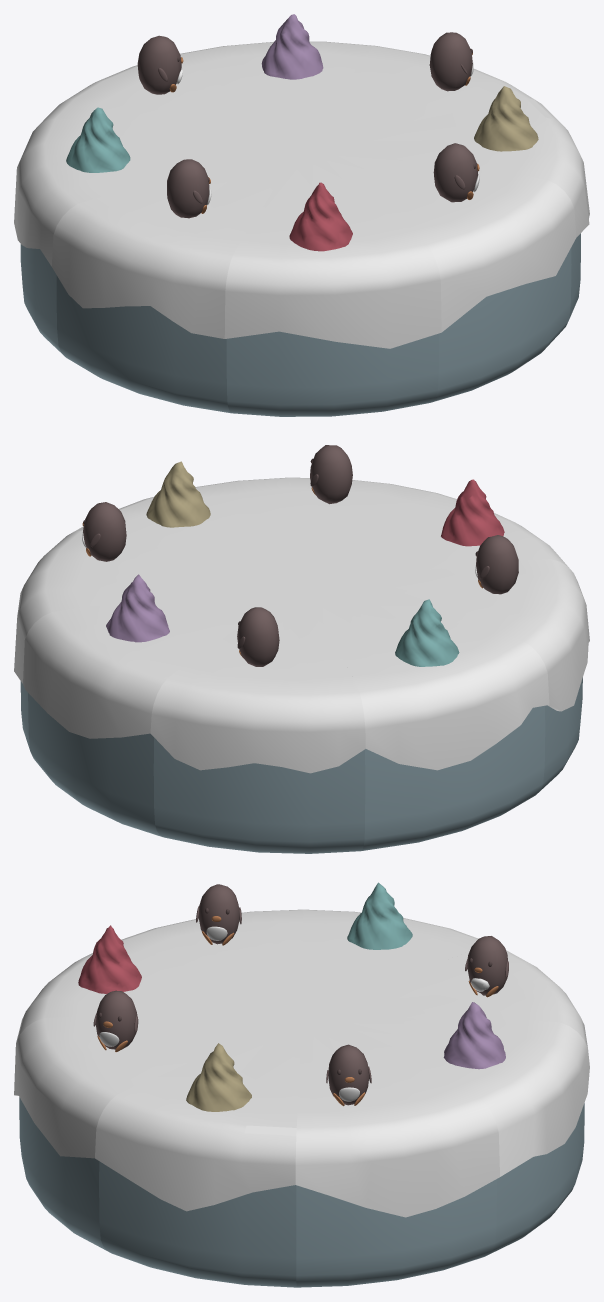
The model's file is cake8M.fbx.
3 views of the same model, one above another, from view 1: azimuth 30°, elevation 25°; view 2: azimuth 150°, elevation 25°; view 3: azimuth 270°, elevation 25° (orthographic).
Visible parts, largest first — view 1: p8, p7, p1, p6, p2, p3, p5, p4; view 2: p5, p6, p4, p7, p3, p1, p8, p2; view 3: p3, p2, p4, p1, p5, p7, p6, p8.
Part boxes in pixels (bbox=[...]): p8: bbox=[224, 148, 441, 416]; p7: bbox=[51, 148, 300, 413]; p1: bbox=[301, 143, 576, 402]; p6: bbox=[14, 107, 299, 356]; p2: bbox=[301, 86, 589, 318]; p3: bbox=[301, 32, 537, 147]; p5: bbox=[39, 35, 300, 147]; p4: bbox=[180, 14, 374, 147]; p5: bbox=[150, 584, 365, 853]; p6: bbox=[302, 584, 549, 850]; p4: bbox=[23, 574, 301, 836]; p7: bbox=[303, 535, 589, 793]; p3: bbox=[14, 502, 301, 750]; p1: bbox=[238, 445, 435, 583]; p8: bbox=[302, 479, 571, 584]; p2: bbox=[74, 461, 301, 583]; p3: bbox=[295, 1017, 499, 1287]; p2: bbox=[95, 1017, 301, 1287]; p4: bbox=[302, 1002, 589, 1256]; p1: bbox=[14, 990, 301, 1252]; p5: bbox=[303, 936, 587, 1047]; p7: bbox=[121, 884, 303, 1016]; p6: bbox=[302, 882, 478, 1016]; p8: bbox=[16, 925, 300, 1042].
Bounding box in the file's own units: 2.01 × 0.8427 × 2.
